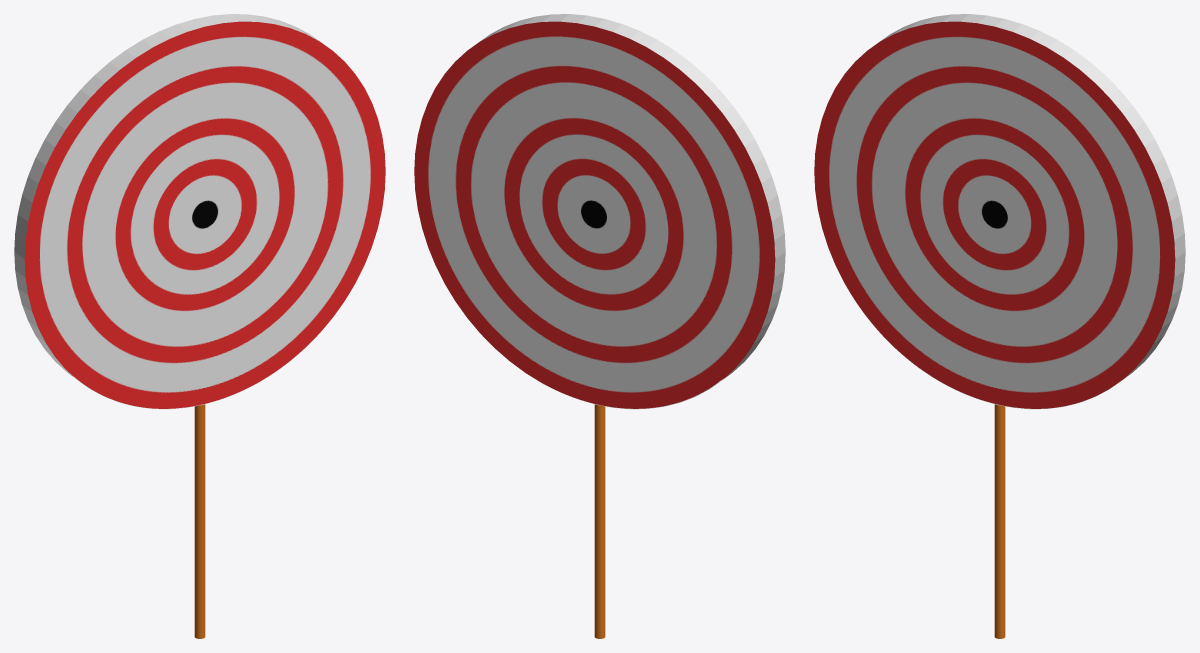
The model's file is ExportedBlenderFBXFile.fbx.
3 renders of one model, left to right at view 1: azimuth 30°, elevation 25°; view 2: azimuth 150°, elevation 25°; view 3: azimuth 330°, elevation 25°, orthographic.
Visible parts, largest first — view 1: Cylinder, Cylinder.001; view 2: Cylinder, Cylinder.001; view 3: Cylinder, Cylinder.001.
Part boxes in pixels (x1=…): Cylinder: x1=14, y1=14, x2=385, y2=409; Cylinder.001: x1=194, y1=404, x2=205, y2=638; Cylinder: x1=414, y1=14, x2=785, y2=409; Cylinder.001: x1=594, y1=404, x2=605, y2=638; Cylinder: x1=814, y1=14, x2=1185, y2=409; Cylinder.001: x1=994, y1=404, x2=1005, y2=638.
Bounding box in the file's own units: 2 × 3.25 × 0.1.
